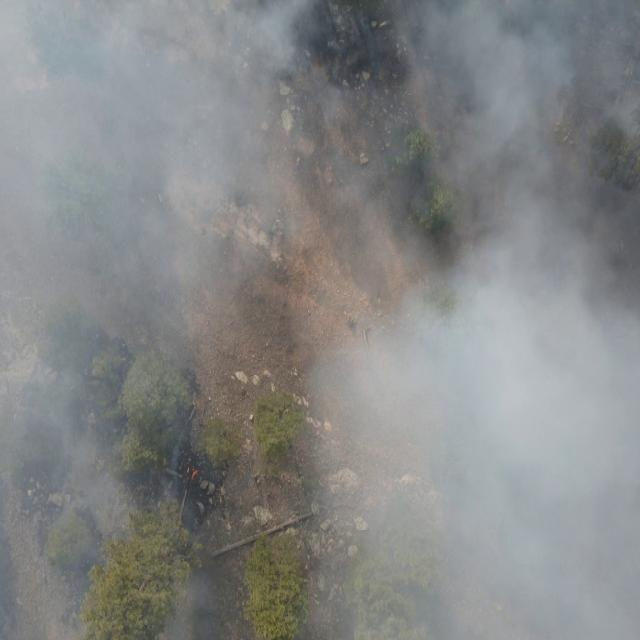fire: (186, 467, 200, 482)
smoke: (0, 0, 640, 640)
